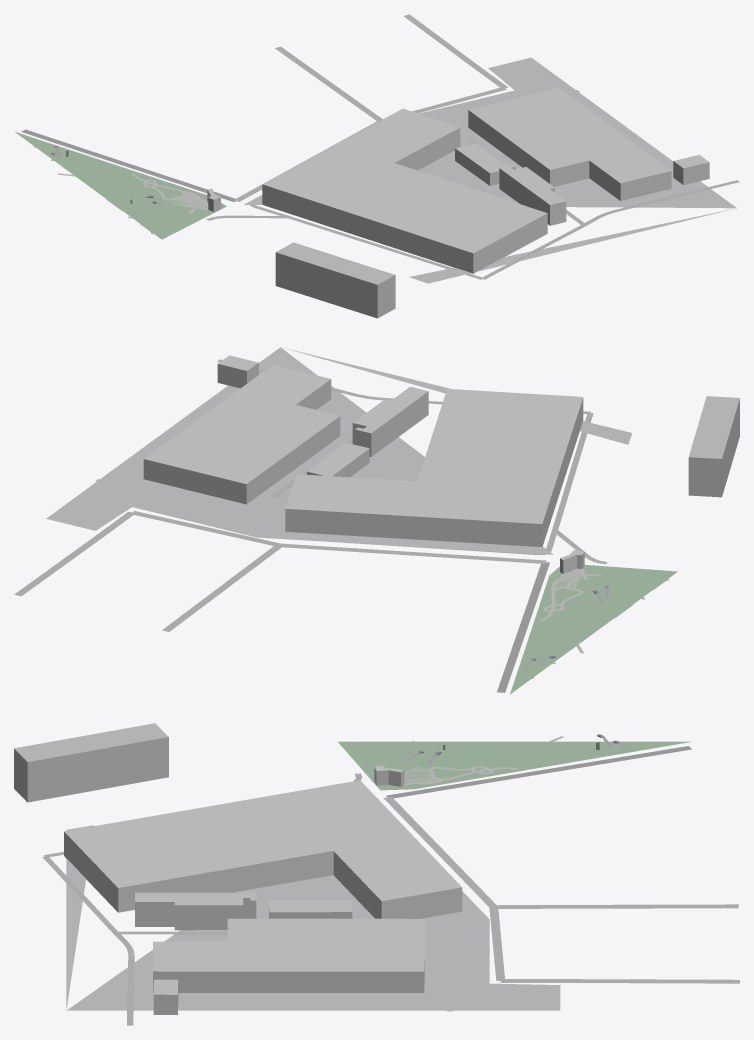
3 renders of one model, top to bottom at view 1: azimuth 30°, elevation 25°; view 2: azimuth 150°, elevation 25°; view 3: azimuth 270°, elevation 25°, orthographic. The views are drawn at different scales.
Size of the model in its own units: 542 by 35.81 by 567.
